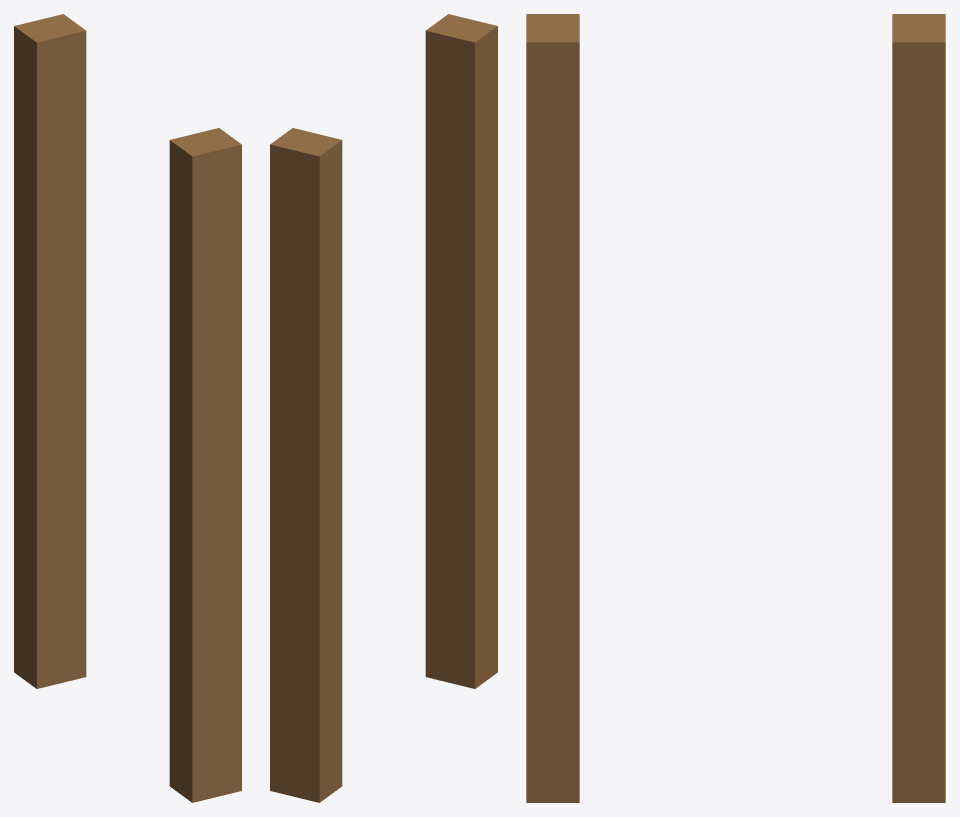
File: detail_028.fbx
The picture shows the model from 3 angles, left to right: view 1: azimuth 30°, elevation 25°; view 2: azimuth 150°, elevation 25°; view 3: azimuth 270°, elevation 25°; orthographic projection. The views are drawn at different scales.
Visible parts, largest first — view 1: detail_028; view 2: detail_028; view 3: detail_028.
Boxes of the visible parts, box(x1,y1,x2,y2) form: detail_028: box(14, 14, 241, 802); detail_028: box(270, 14, 497, 802); detail_028: box(526, 14, 945, 802).
Bounding box in the file's own units: 0.5 × 6.25 × 3.12.
